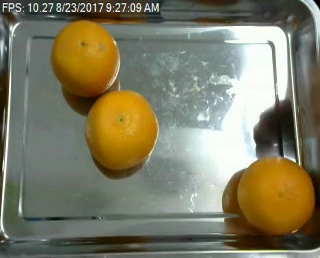Orange: (237, 156, 315, 236), (85, 90, 159, 170), (50, 19, 120, 98)
